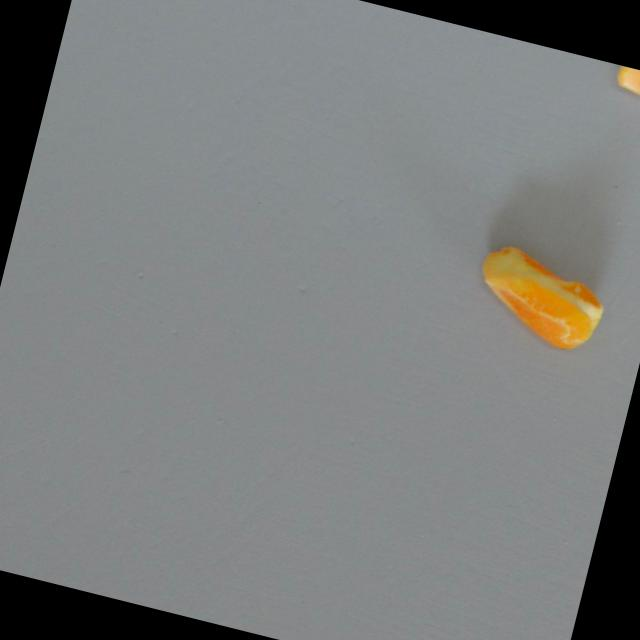pelicula: (464, 240, 614, 358), (611, 65, 640, 100)
